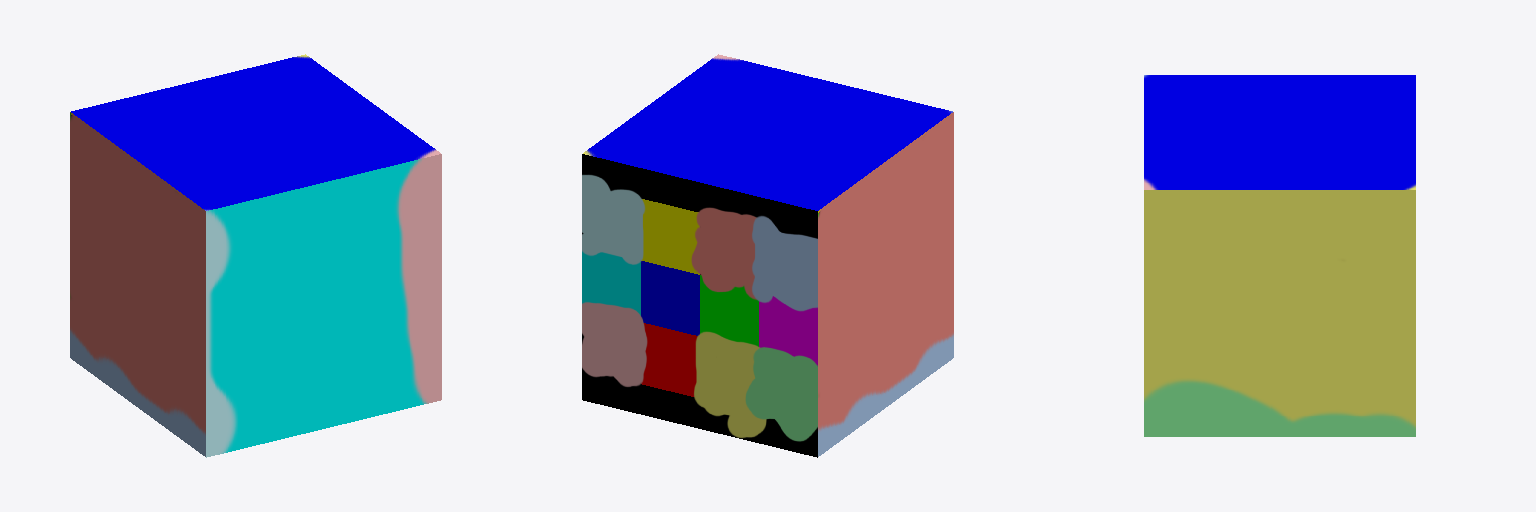
3 renders of one model, left to right at view 1: azimuth 30°, elevation 25°; view 2: azimuth 150°, elevation 25°; view 3: azimuth 270°, elevation 25°, orthographic.
Visible parts, largest first — view 1: Cube; view 2: Cube; view 3: Cube.
Boxes of the visible parts, x1=… form: Cube: x1=70, y1=54, x2=441, y2=457; Cube: x1=582, y1=54, x2=953, y2=457; Cube: x1=1144, y1=75, x2=1415, y2=436.
Size of the model in its own units: 2 by 2 by 2.
1 materials, 1 textured.